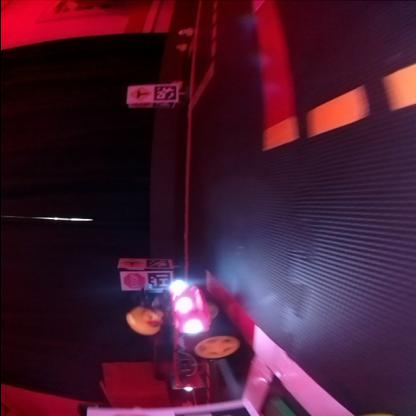Duckie: (126, 308, 162, 336), (174, 44, 186, 52), (178, 29, 190, 37)
Duckiebot: (154, 284, 235, 390)
Intersection sign: (125, 86, 149, 102), (118, 260, 142, 268)
QR code: (148, 272, 170, 290), (152, 86, 176, 102), (146, 260, 168, 268), (152, 103, 172, 108)
Stop sign: (121, 273, 144, 289)
